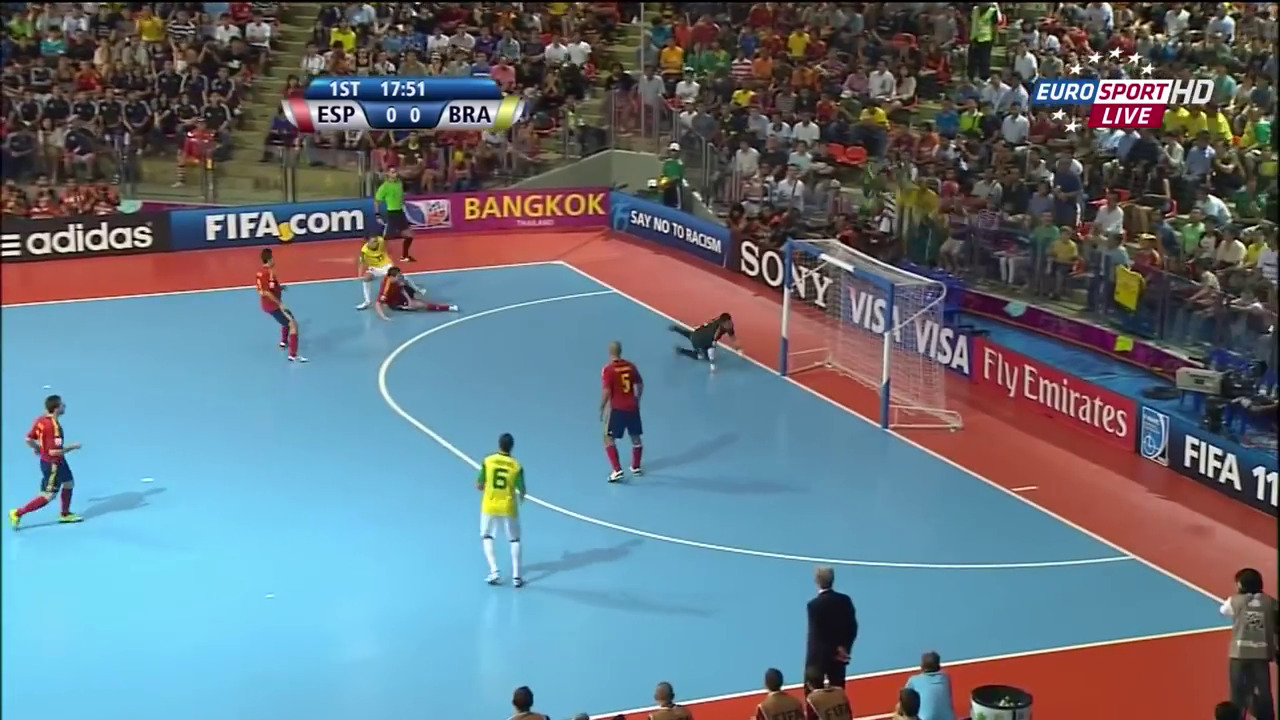person: (9, 393, 88, 528), (468, 429, 533, 587), (582, 338, 651, 484), (251, 246, 312, 365), (664, 301, 743, 376), (353, 234, 427, 311), (381, 267, 458, 317)
